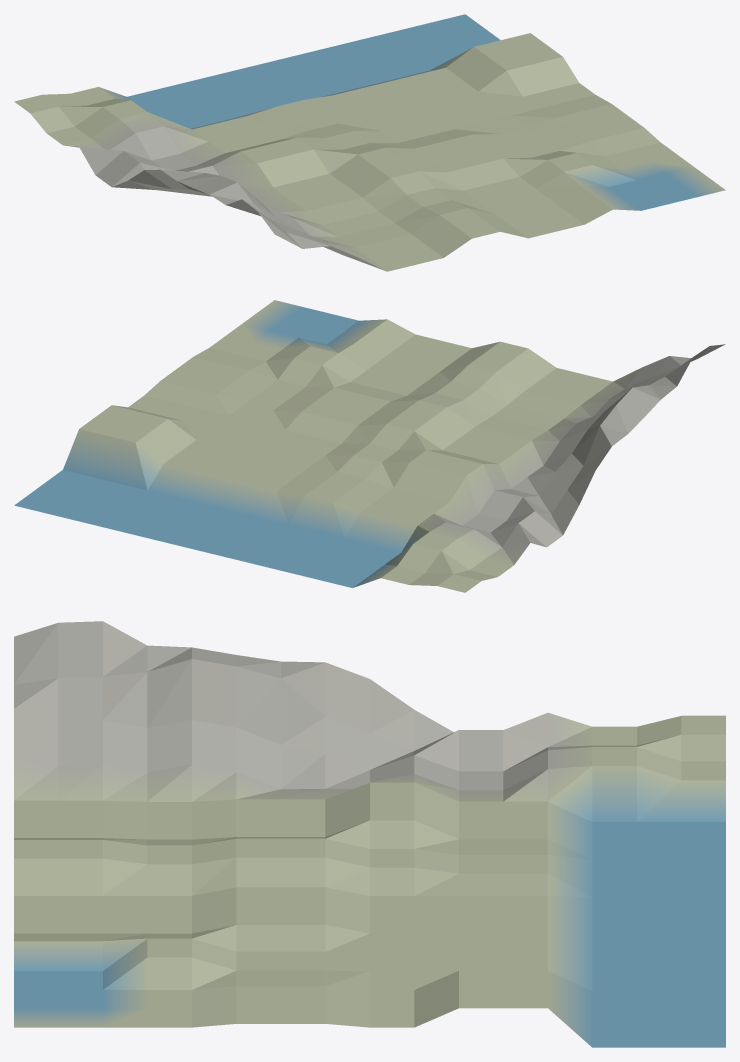
The picture shows the model from 3 angles, top to bottom: view 1: azimuth 30°, elevation 25°; view 2: azimuth 150°, elevation 25°; view 3: azimuth 270°, elevation 25°; orthographic projection. The views are drawn at different scales.
Size of the model in its own units: 32 by 6.23 by 32.
